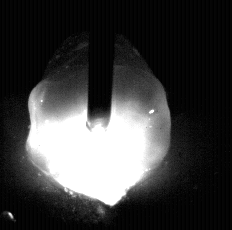arame: (88, 0, 112, 130)
poca: (26, 0, 171, 230)
